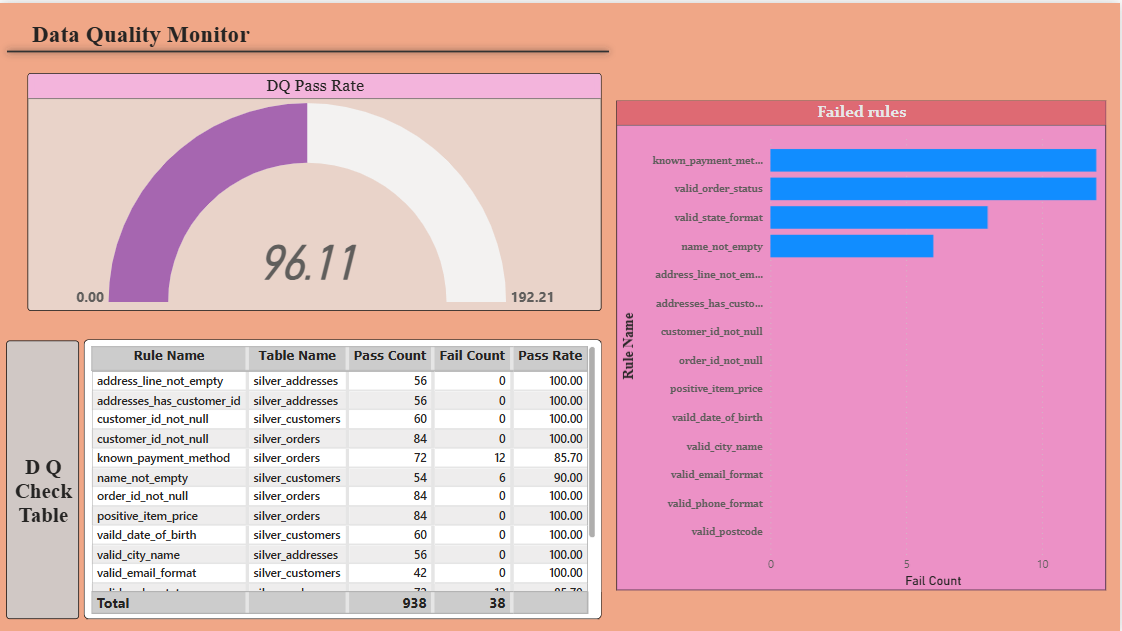

The dashboard page shown, as its layout file describes it:
{"tool":"powerbi","page":{"name":"Data Quality Monitor","canvas":[1280,720],"ordinal":3},"visuals":[{"type":"gauge","fields":{"Y":["Table_measure.DQ Pass Rate"]},"box":[32,80,656,272],"z":0},{"type":"clusteredBarChart","title":"Failed rules","fields":{"Category":["dq_report.rule_name"],"Y":["Sum(dq_report.fail_count)"]},"box":[704,112,560,560],"z":1000},{"type":"tableEx","fields":{"Values":["dq_report.rule_name","dq_report.table_name","Sum(dq_report.pass_count)","Sum(dq_report.fail_count)","dq_report.pass_rate"]},"box":[96,384,592,320],"z":2000},{"type":"shape","box":[0,32,704,48],"z":4000},{"type":"textbox","box":[32,16,416,48],"z":5000},{"type":"textbox","box":[7,385,83,318],"z":5001}]}

Visuals, with their boxes in screenshot pixels (x1, y1, x2, y2), scaled from the page's 1280x720 canvas onto the 1122x631 screenshot:
gauge - Table_measure.DQ Pass Rate: [28, 70, 603, 308]
"Failed rules" clusteredBarChart: [617, 98, 1108, 589]
tableEx - dq_report.rule_name x dq_report.table_name: [84, 337, 603, 617]
shape: [0, 28, 617, 70]
textbox: [28, 14, 393, 56]
textbox: [6, 337, 79, 616]
